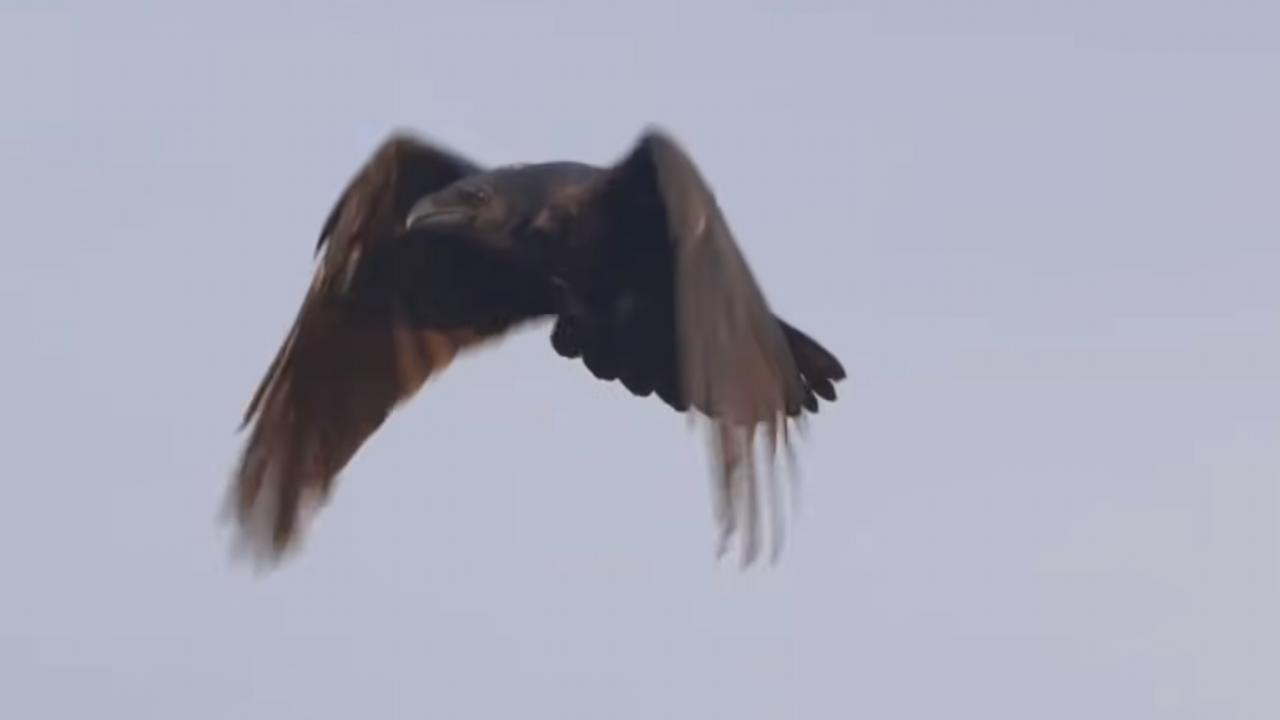Bird: (214, 116, 859, 595)
